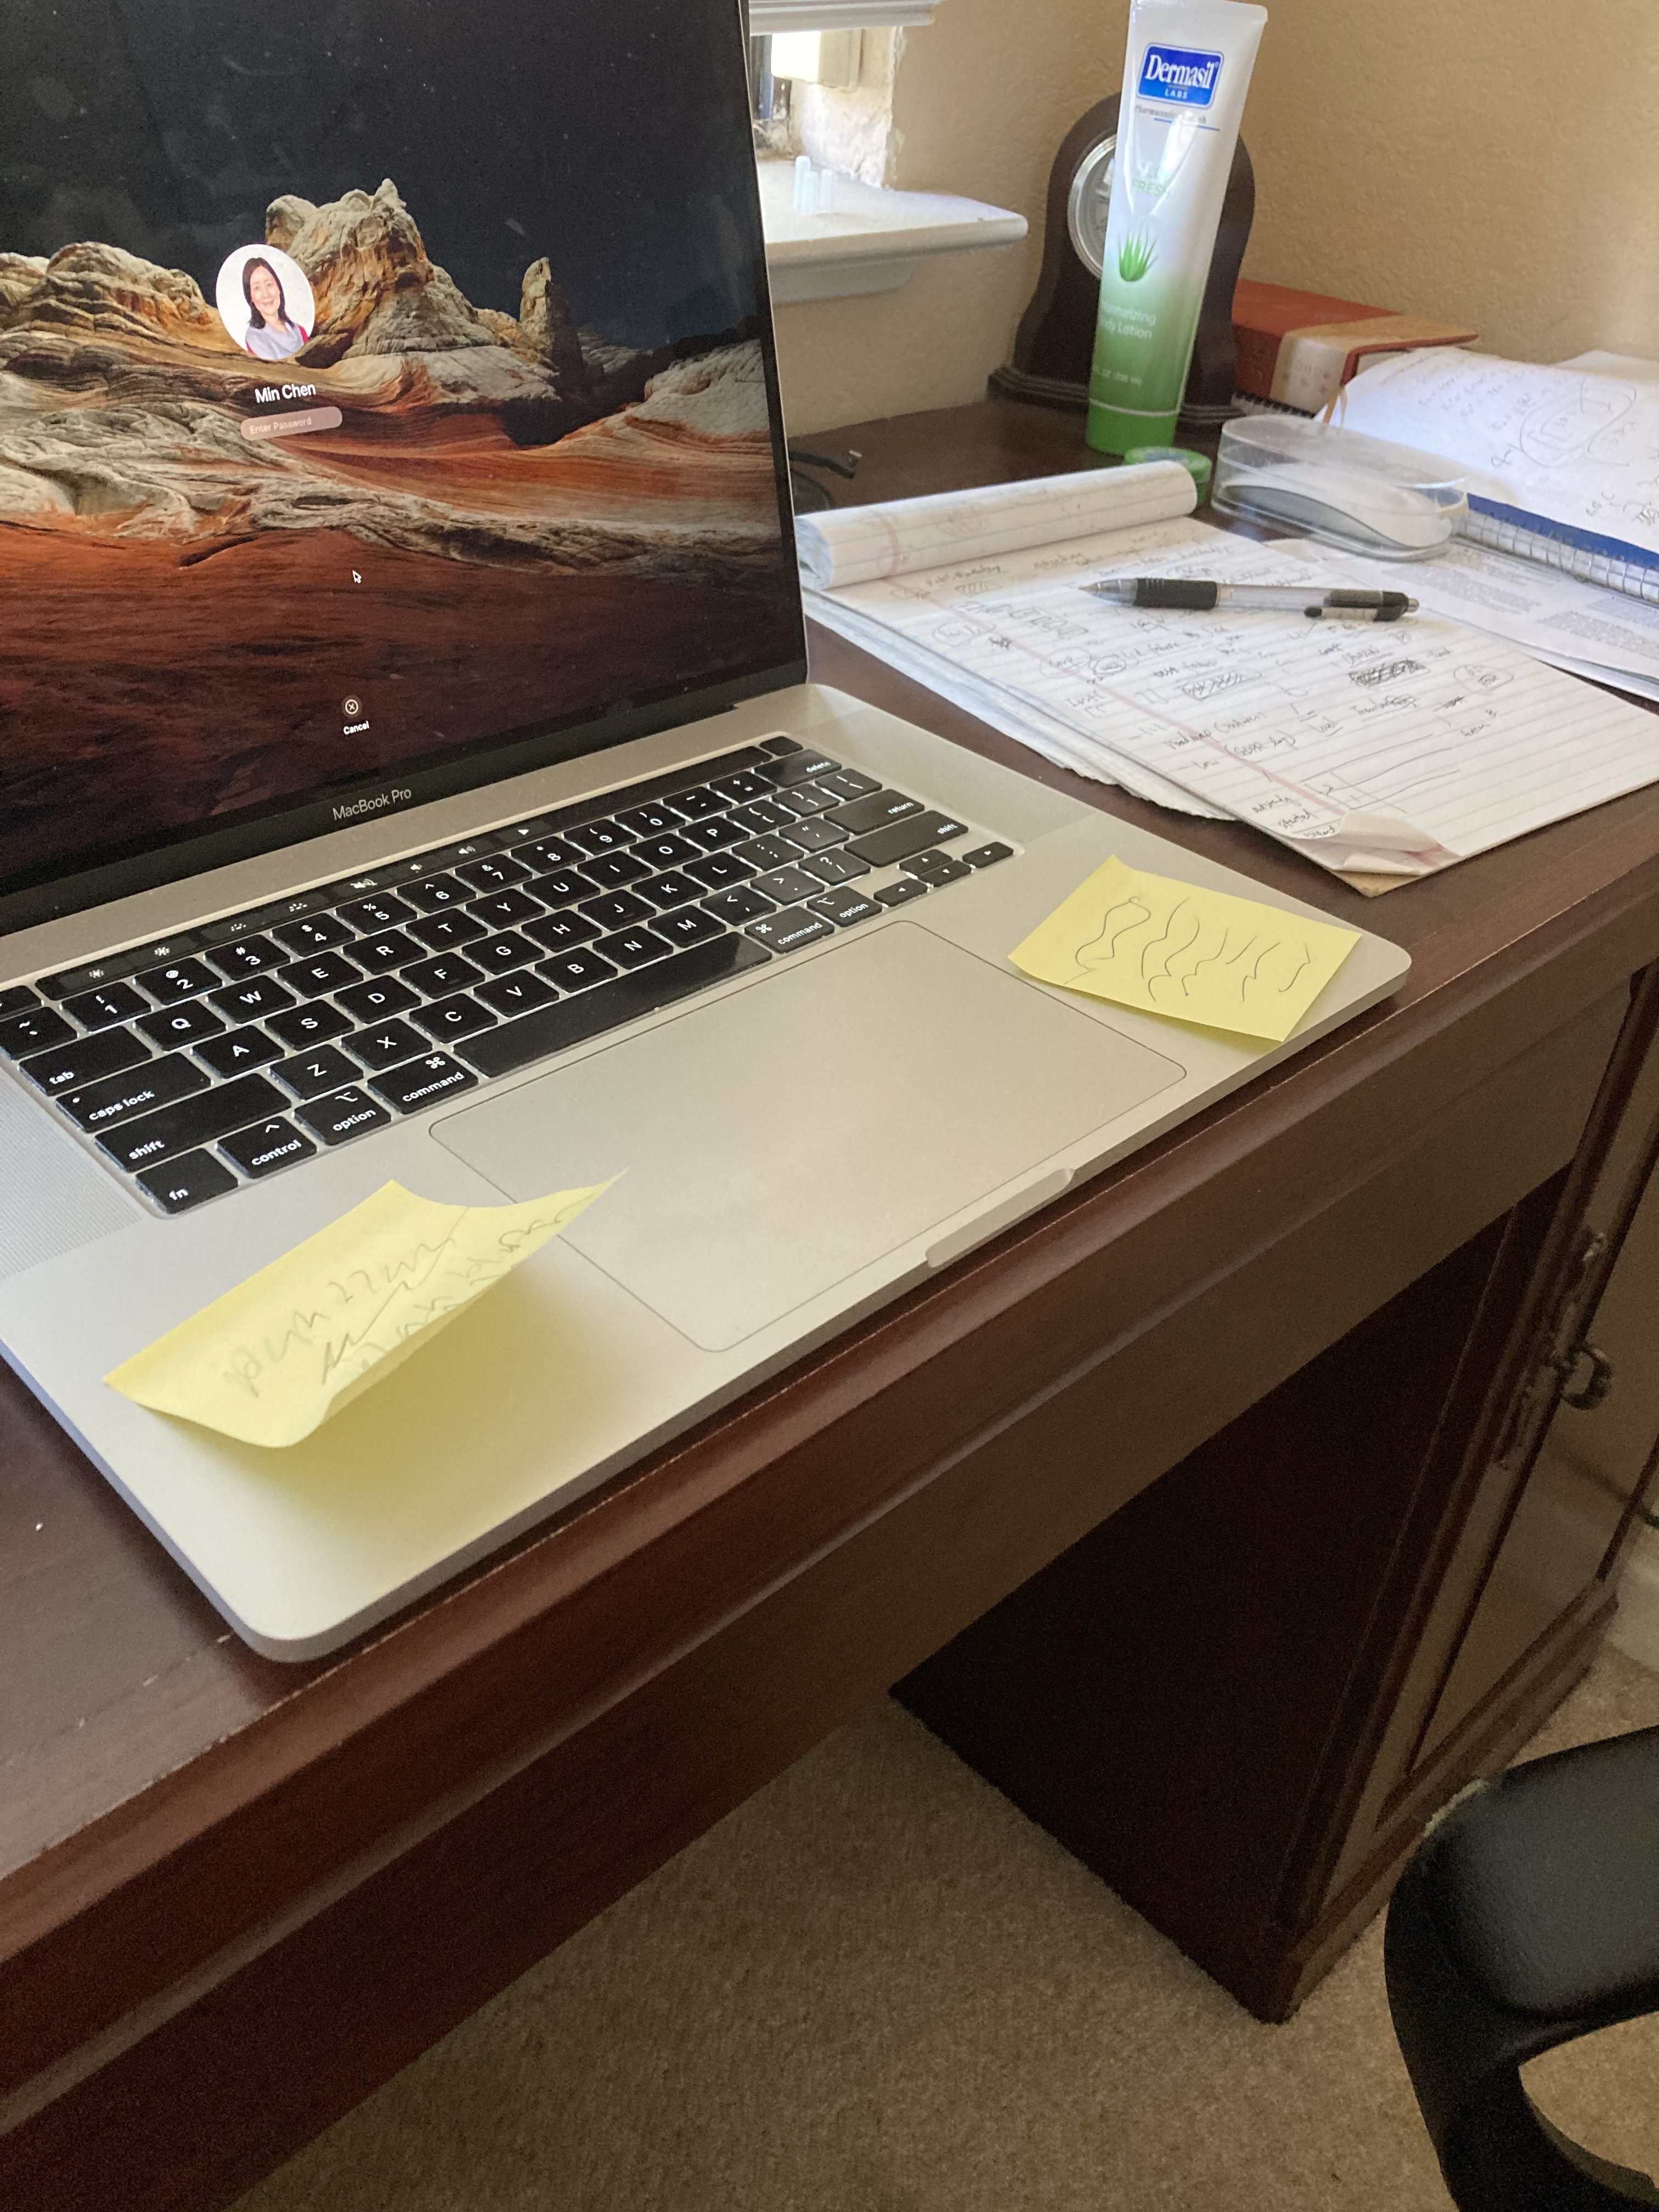Note: (113, 1202, 605, 1449), (1019, 857, 1380, 1052)
